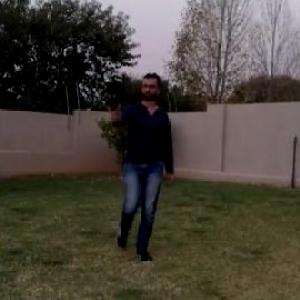takeoff-hand: (106, 95, 123, 129)
